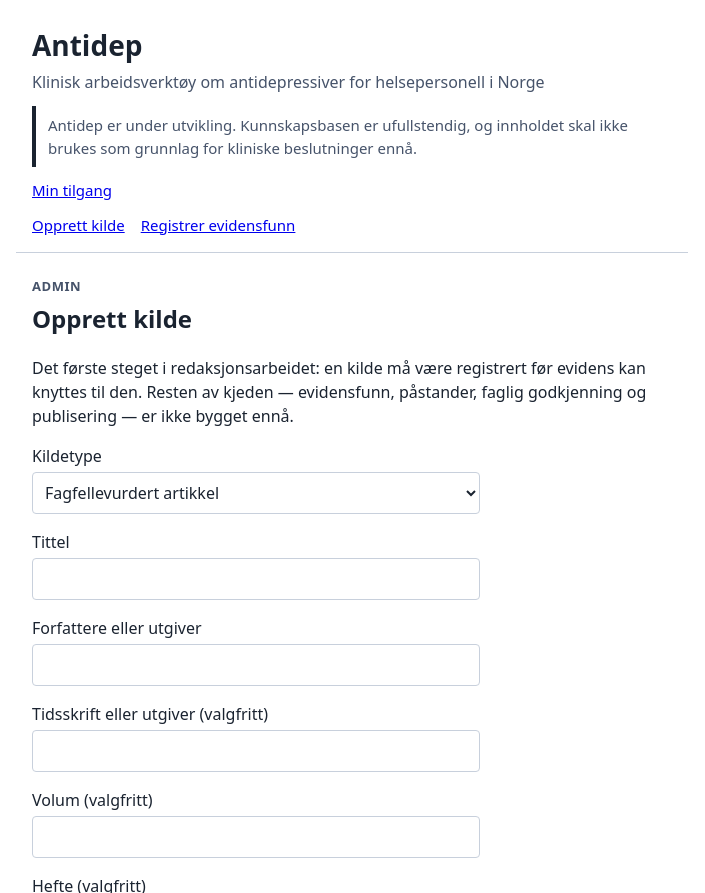
Test case: Opprett kilde — publiseringsdato › år og måned: november 2000 blir 2000-11-01
Type "Testkilde fra skjema" into the field labelled "Tittel" at (256, 579), box [32,558,480,600]
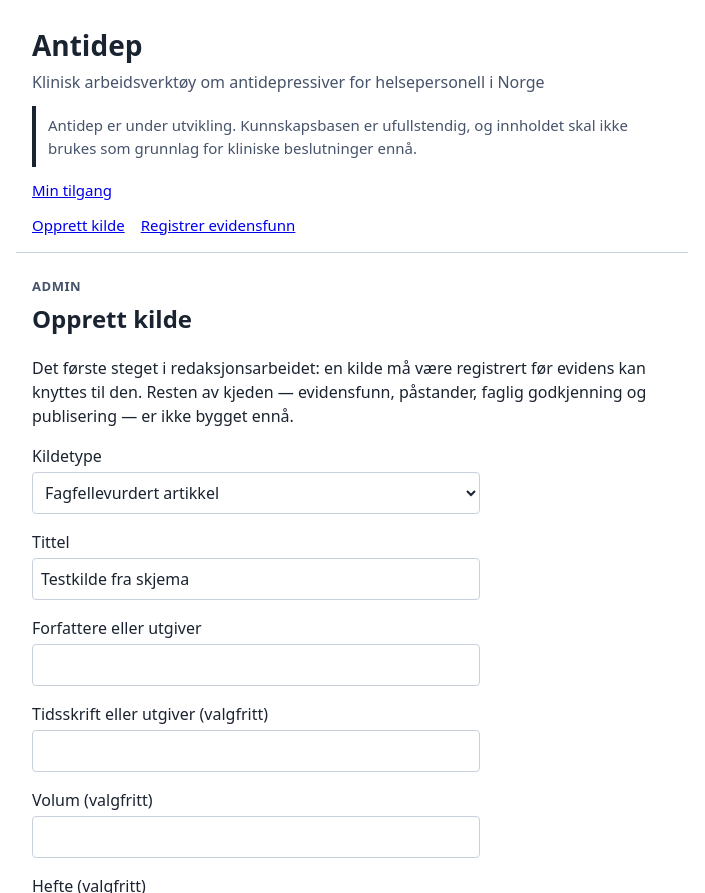
Type "Testforfatter" into the field labelled "Forfattere eller utgiver" at (256, 665), box [32,644,480,686]
(page scrolled)
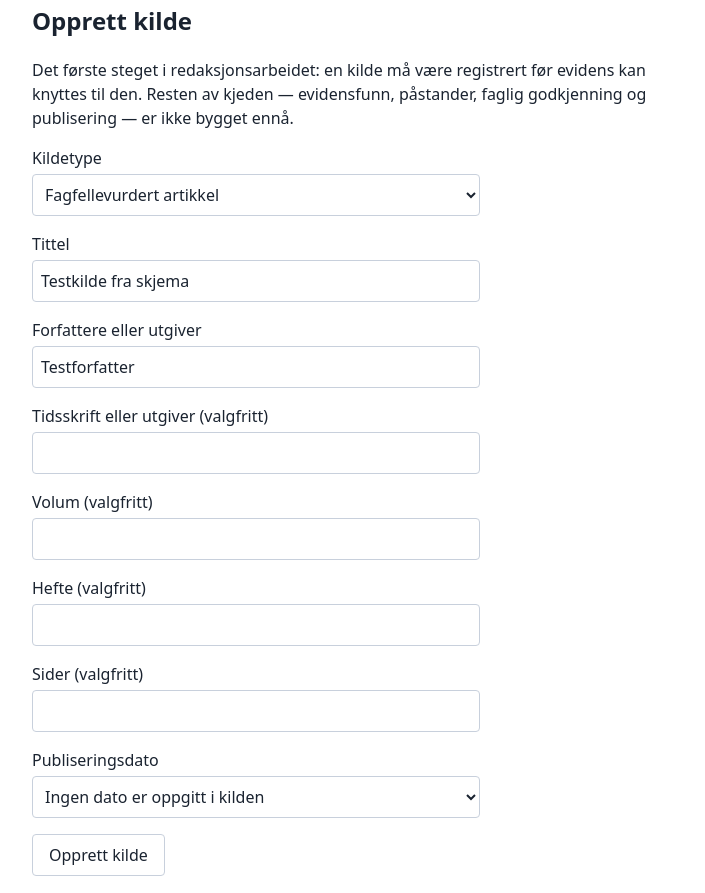
Select "Måned og år er kjent" in the dropdown labelled "Publiseringsdato" at (256, 797), box [32,776,480,818]
(page scrolled)
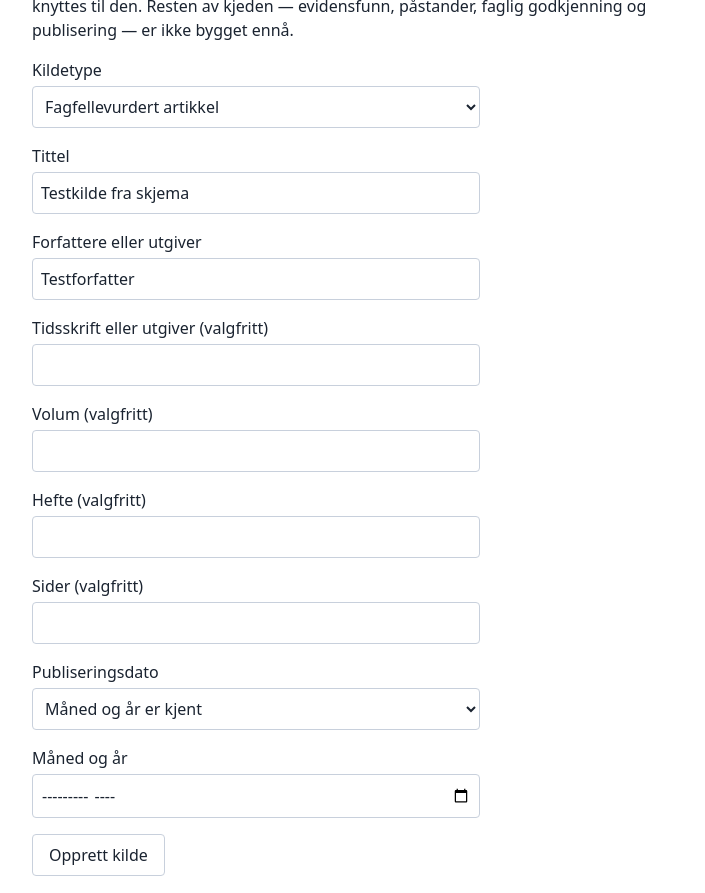
Type "2000-11" into the field labelled "Måned og år" at (256, 796), box [32,774,480,818]
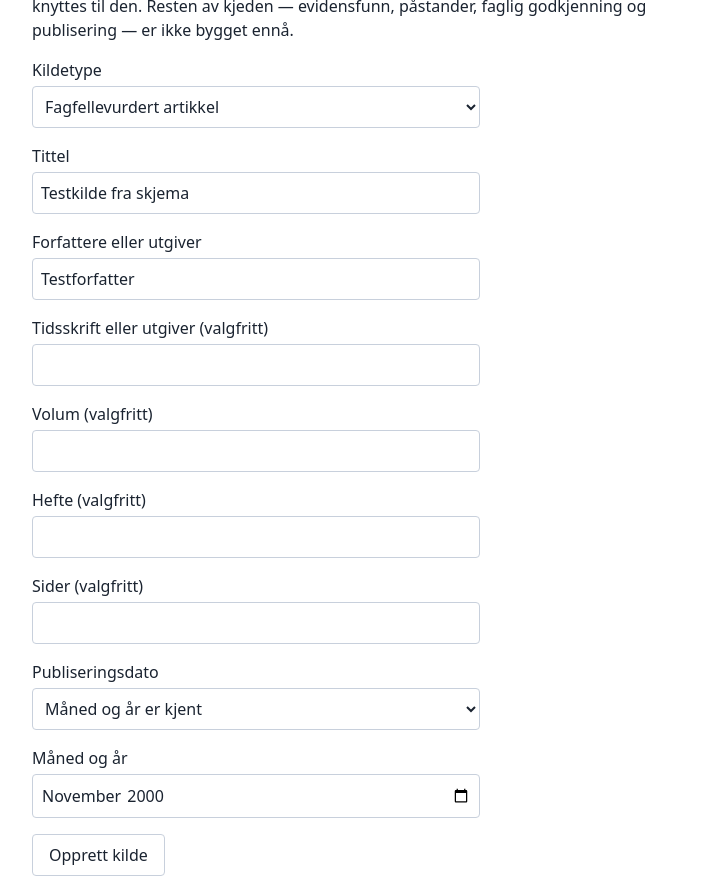
Click the button "Opprett kilde" at (98, 855), box [32,834,165,876]
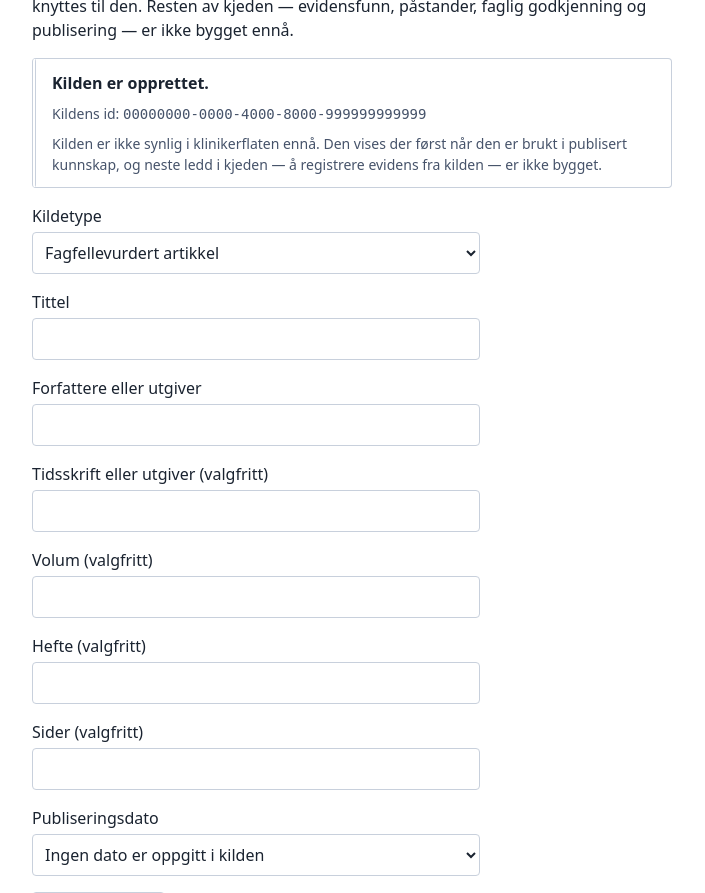
expect the text "Kilden er opprettet." is shown: met, box [52,72,209,94]
